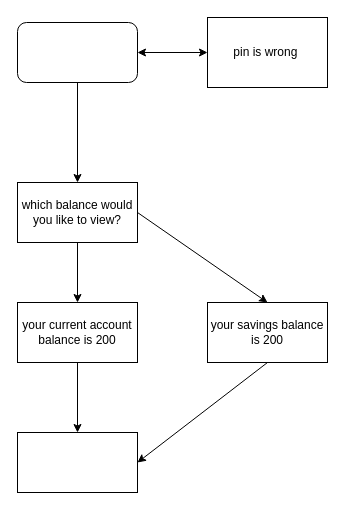
Image size: 345x510. Some labels were removed from this diagram. The centre of each missing label's shape, as x and y in pixels:
exit program: point (77, 462)
what is your pin: point (77, 52)
